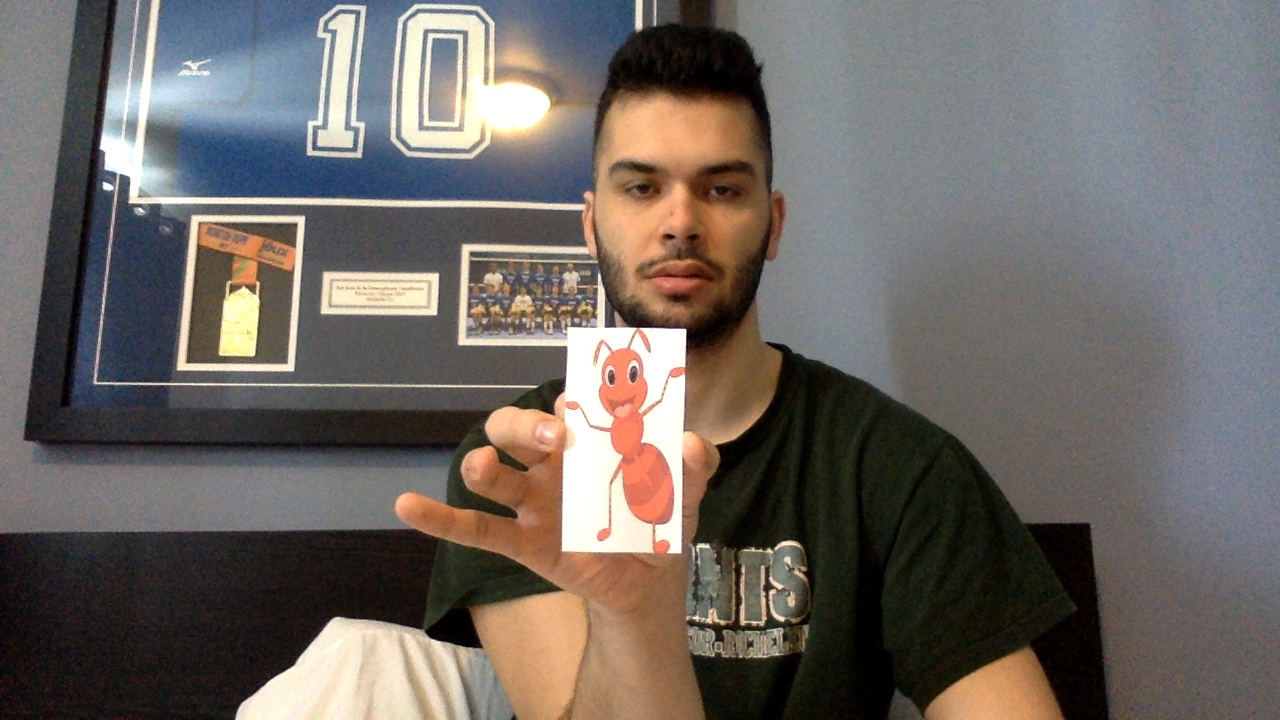Happy: (565, 328, 687, 555)
